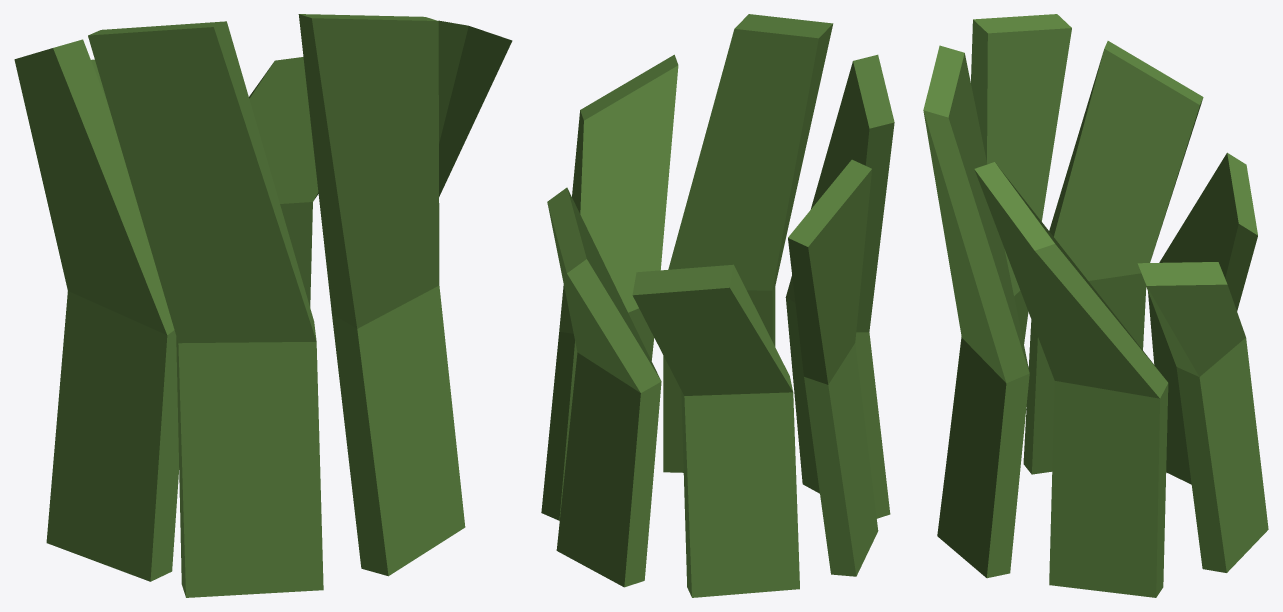
The model's file is LowPolyGrass.fbx.
3 views of the same model, side by side, from view 1: azimuth 30°, elevation 25°; view 2: azimuth 150°, elevation 25°; view 3: azimuth 270°, elevation 25° (orthographic). The views are drawn at different scales.
Parts seen in each view (by area): view 1: LowePolyGrass; view 2: LowePolyGrass; view 3: LowePolyGrass.
Part boxes in pixels (<box>): LowePolyGrass: <box>14,14,512,597</box>; LowePolyGrass: <box>541,14,894,597</box>; LowePolyGrass: <box>923,14,1268,597</box>.
Bounding box in the file's own units: 9.09 × 12.08 × 8.19.
